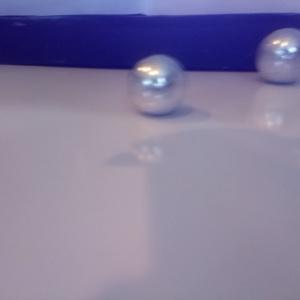zone: (1, 12, 300, 72)
